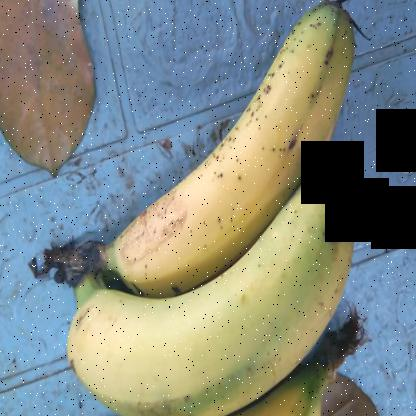freshripe: (65, 171, 372, 415)
ripe: (124, 1, 354, 295)
